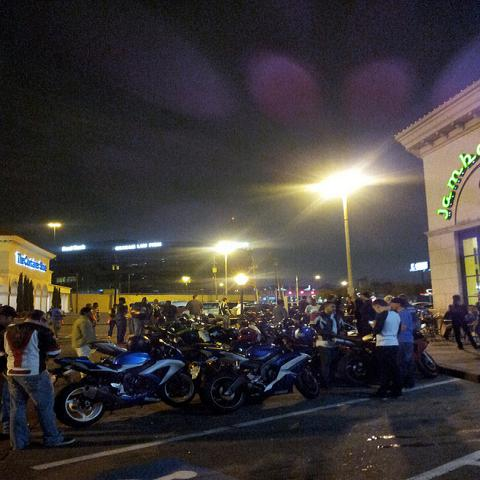motorcycle: (52, 339, 196, 427), (196, 316, 321, 412), (328, 320, 438, 386), (142, 324, 239, 357), (307, 336, 338, 392), (89, 335, 152, 358), (186, 345, 214, 392), (238, 318, 278, 346), (185, 321, 217, 330)
